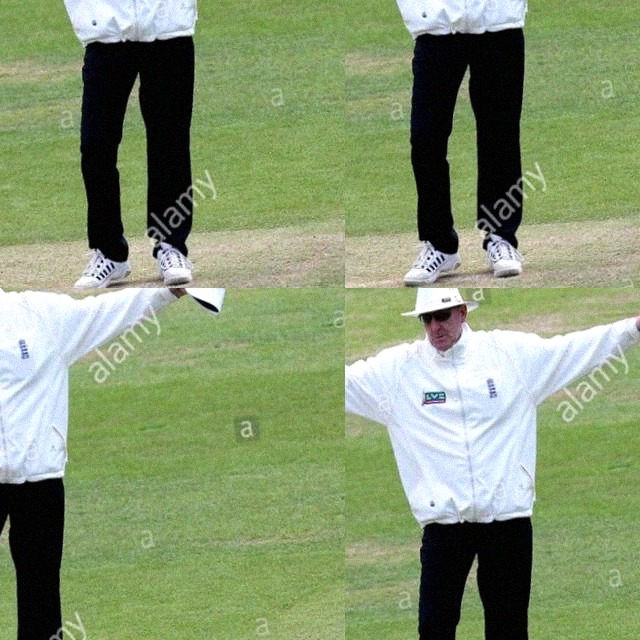No_Ball: (345, 0, 640, 288), (0, 288, 189, 640)
Wide: (345, 288, 640, 640)
